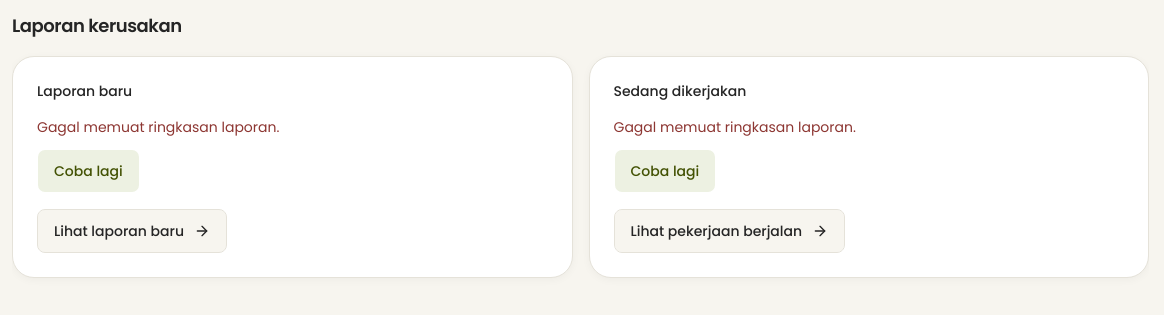
Test case: ringkasan pekerjaan laporan Petugas › menampilkan error dan dapat memuat ulang
Expected: the number of messages is 2, [37, 117, 279, 137]; [614, 117, 856, 137]
Click the 1st button "Coba lagi": (88, 171) [37, 149, 140, 193]
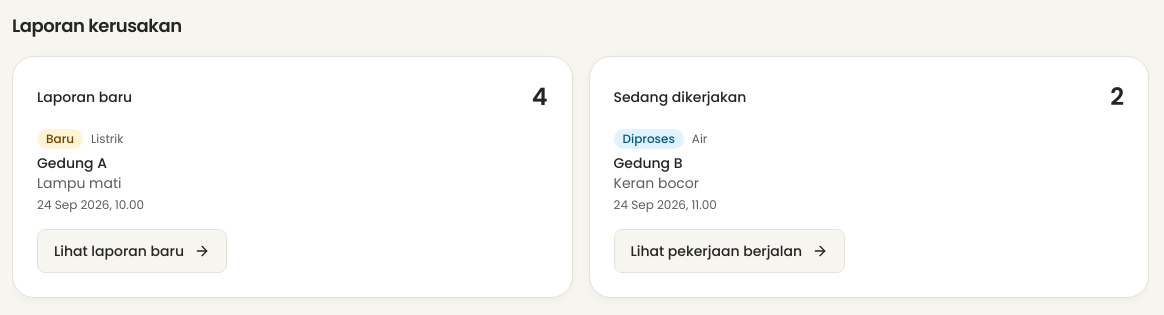
Now the text "Gedung A" is shown, box [37, 153, 107, 173]
